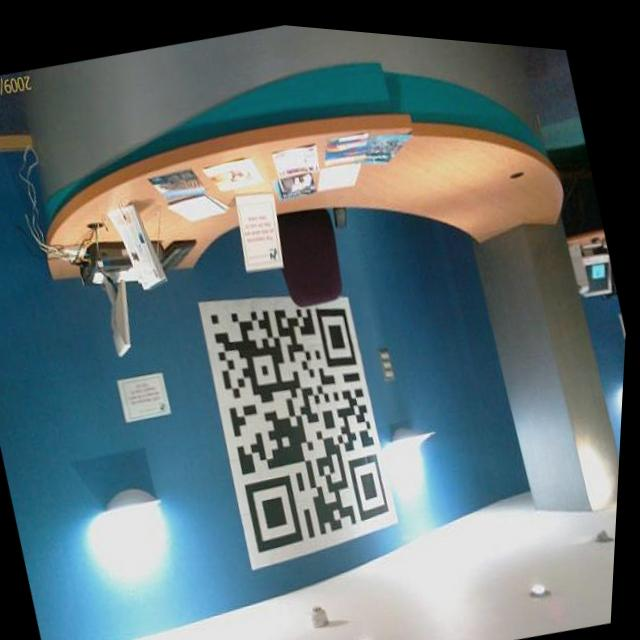qrcode: (203, 276, 407, 556)
